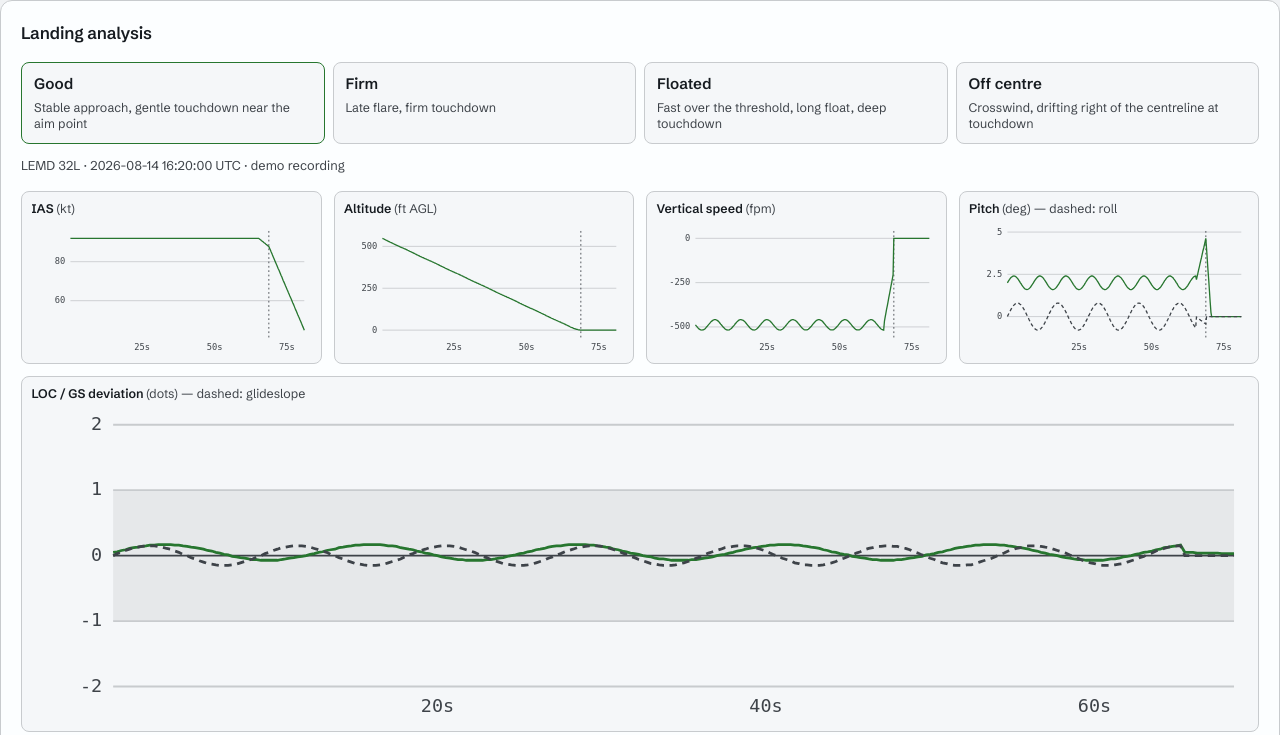
it: LandingPanel › switches the debrief when another landing is picked
This screenshot has width=1280, height=735.
Click the button "Off centre" at (1107, 103), box [956,62,1259,144]
(page scrolled)
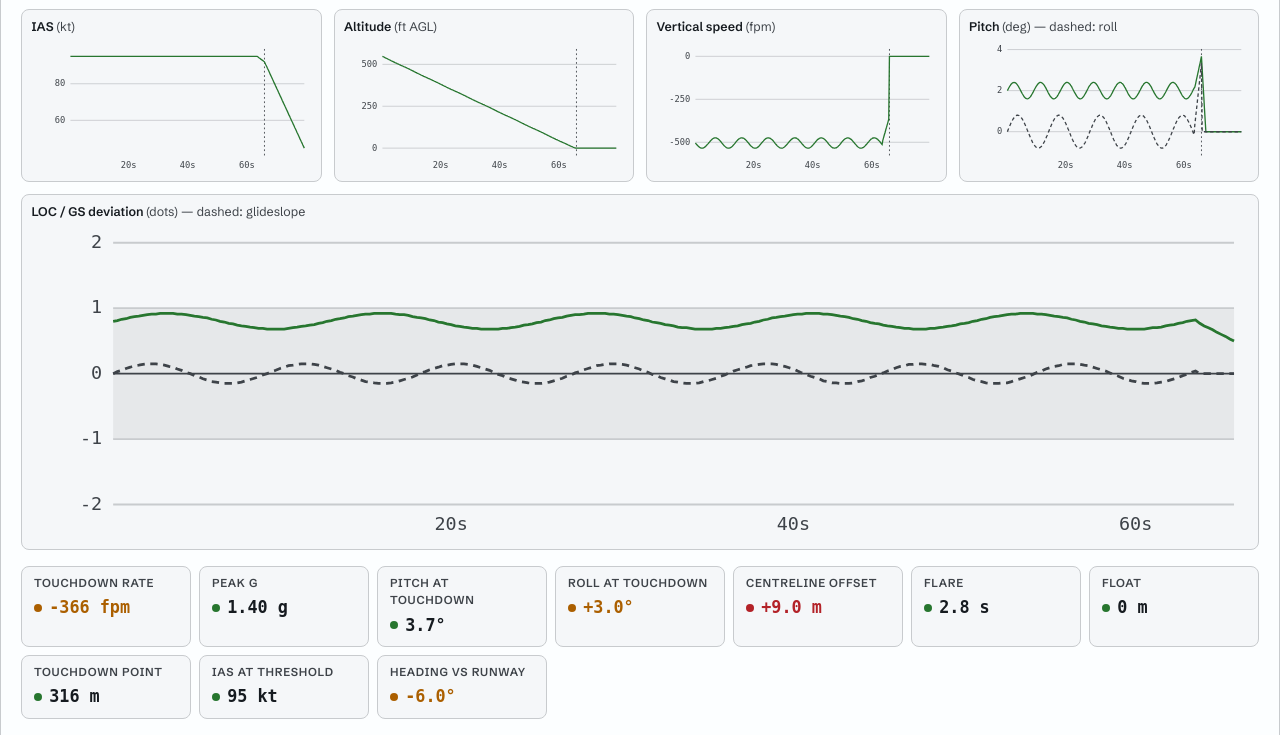
Result: the text "+9.0 m" is shown at [746,598,822,618]
